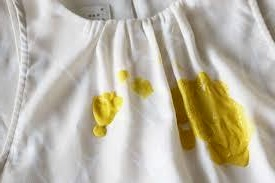mustard: (168, 73, 235, 163), (207, 104, 248, 169), (91, 91, 119, 140), (131, 73, 151, 95), (119, 68, 132, 83)
